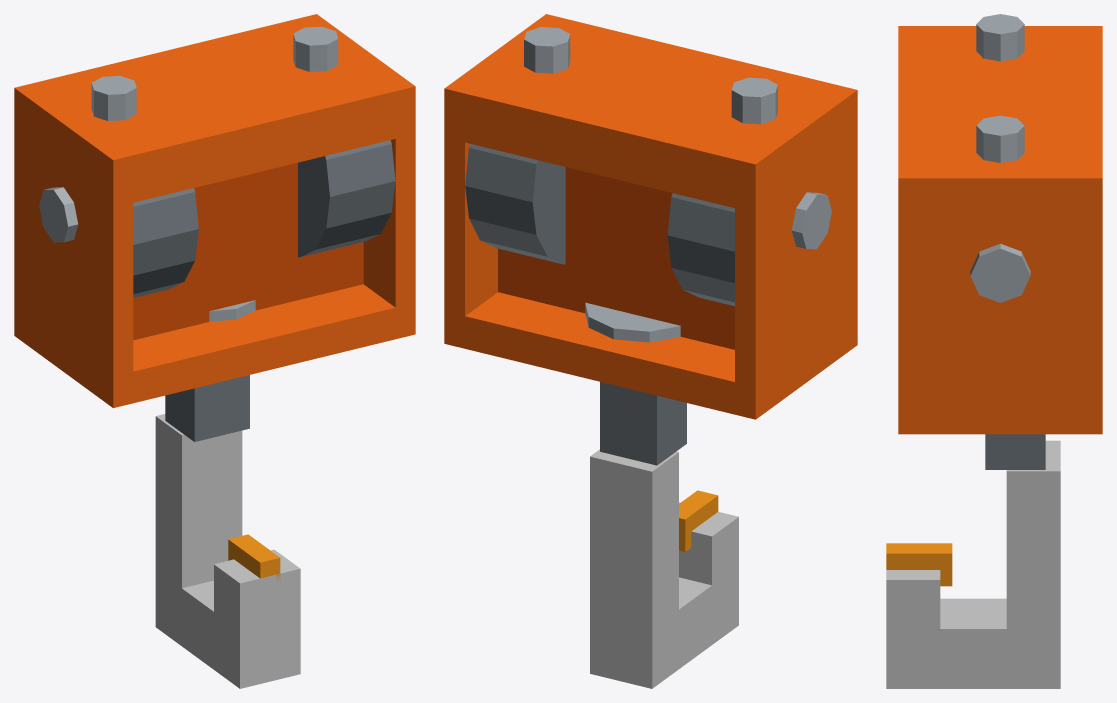
Rendered from body.obj.
The picture shows the model from 3 angles, left to right: view 1: azimuth 30°, elevation 25°; view 2: azimuth 150°, elevation 25°; view 3: azimuth 270°, elevation 25°; orthographic projection. The views are drawn at different scales.
Bounding box in the file's own units: 0.64 × 1.1 × 0.36.
